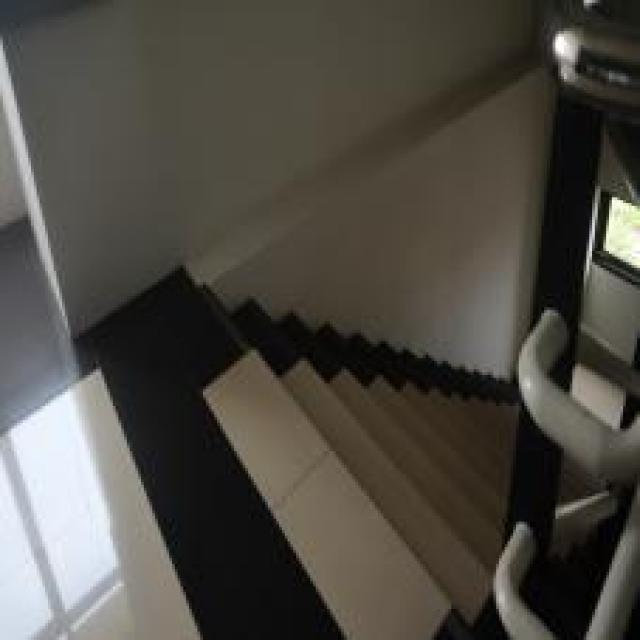downstair: (179, 373, 461, 630)
